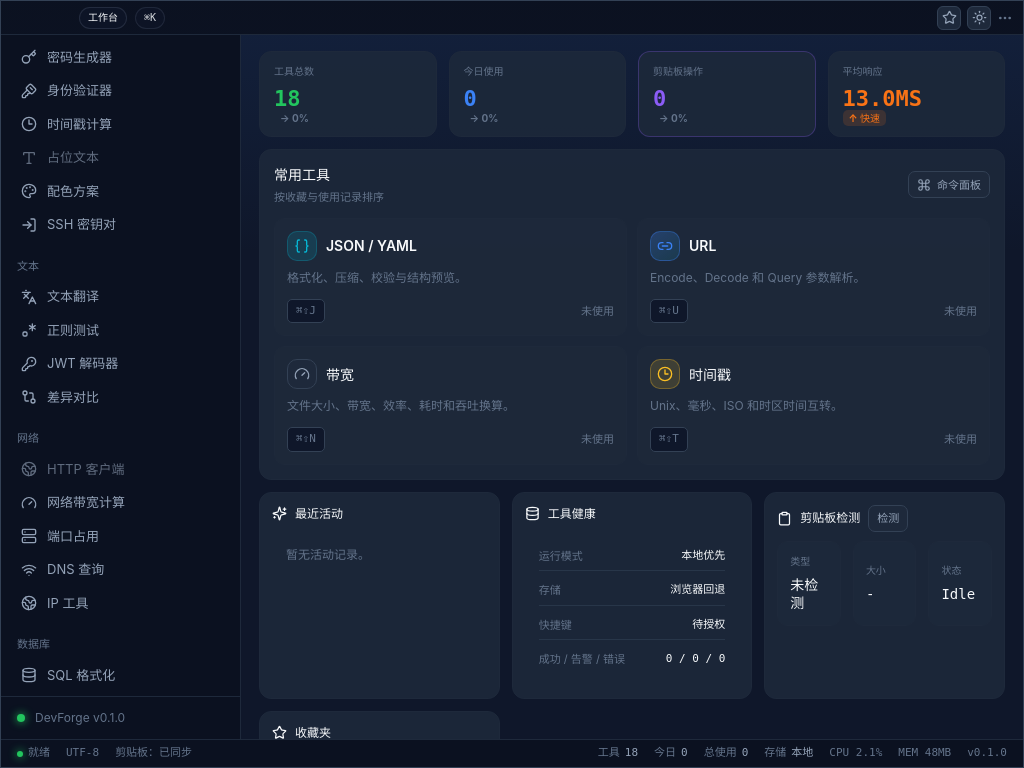
Test: App shell › navigates to the port tool
The width and height of the screenshot is (1024, 768).
(page scrolled)
Click the link "端口占用": click(60, 536) left=21, top=528, right=99, bottom=544
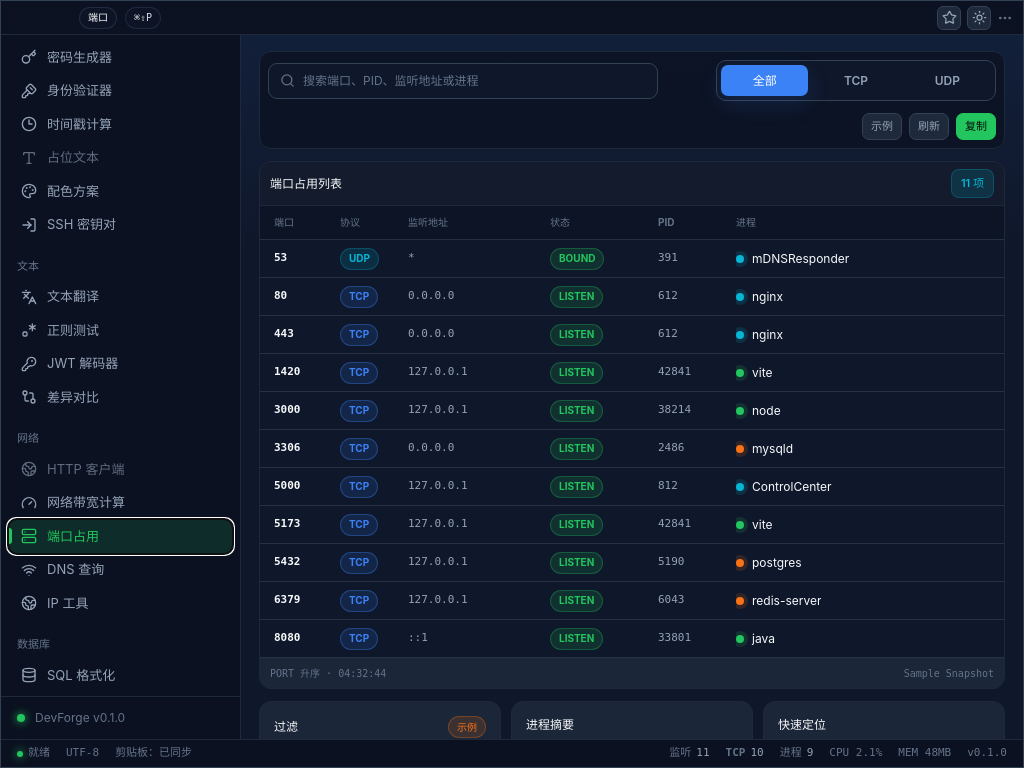
Expected: the text "⌘⇧P" is shown once, left=134, top=10, right=152, bottom=25
Expected: the text "端口占用列表" is shown, left=270, top=174, right=342, bottom=192
Expected: the column heading "PID" is shown, left=646, top=206, right=724, bottom=240
